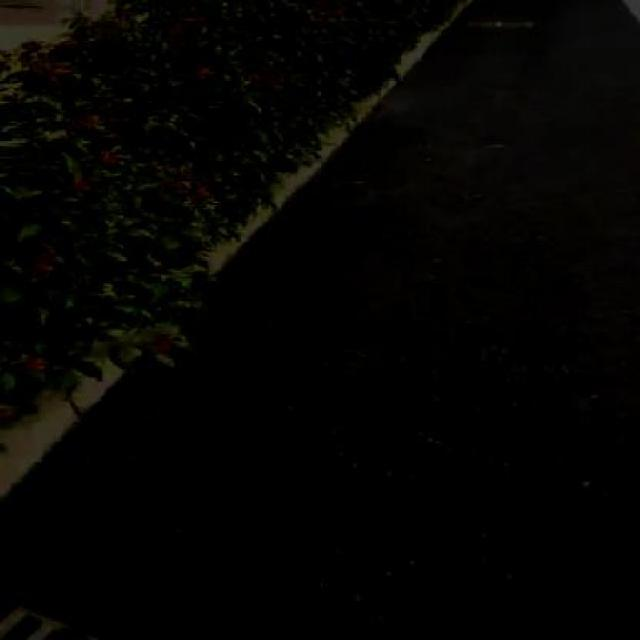Manhole: (0, 591, 84, 640), (472, 13, 544, 34)
